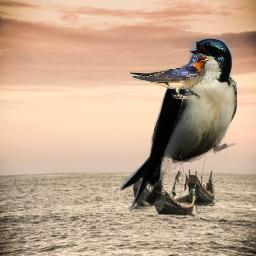Swallow: (120, 38, 237, 213), (130, 54, 210, 99)
